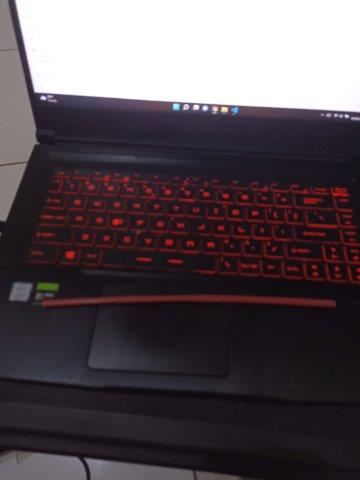sedotan: (43, 294, 336, 308)
